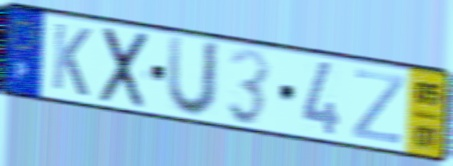3: (226, 46, 277, 128)
4: (300, 58, 342, 140)
K: (49, 20, 93, 100)
U: (164, 33, 223, 121)
X: (97, 25, 152, 112)
Z: (350, 66, 408, 147)
